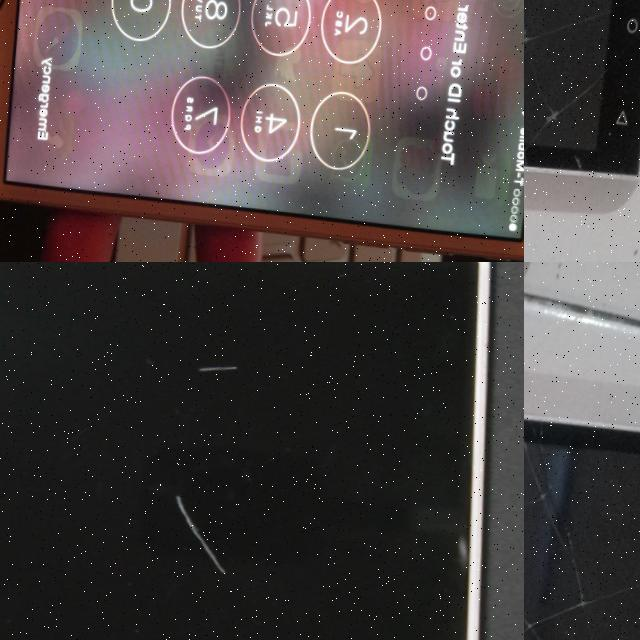scratch: (165, 489, 254, 583), (192, 351, 250, 384)
screen crack: (524, 411, 640, 640), (524, 0, 614, 170)
